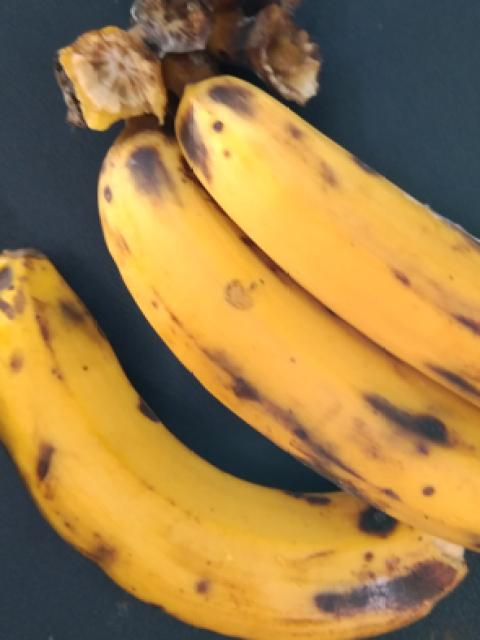overripe: (6, 250, 473, 639), (94, 140, 479, 524), (185, 71, 479, 394)
